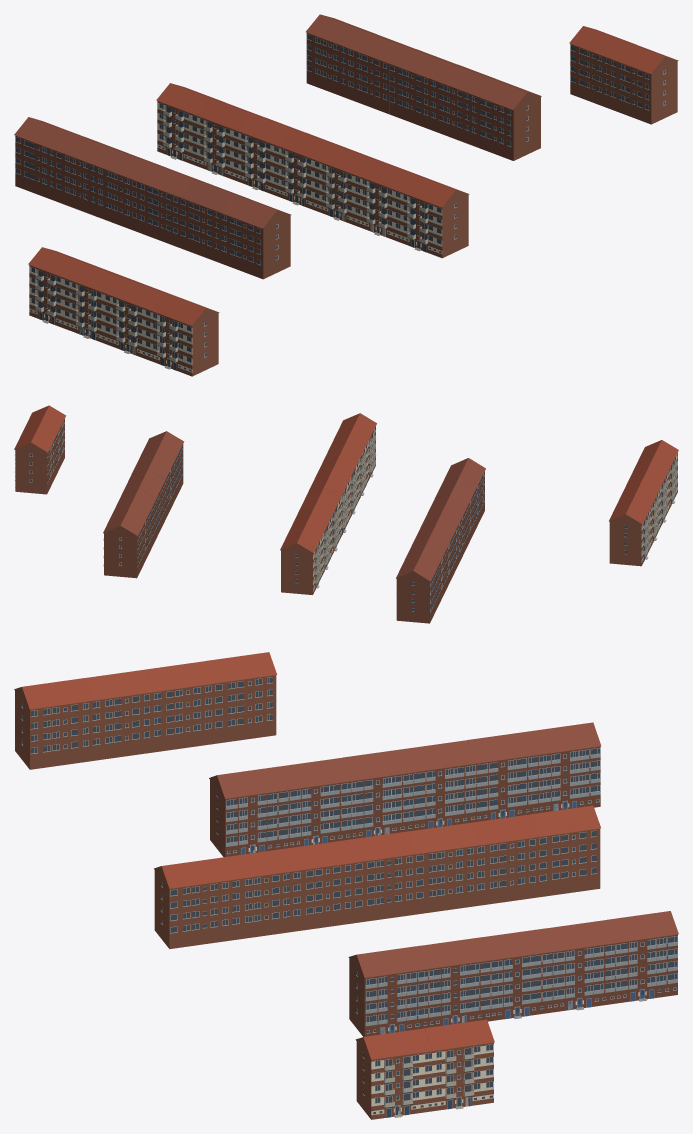
Rendered from sonderbuur-merged.glb.
3 renders of one model, top to bottom at view 1: azimuth 30°, elevation 25°; view 2: azimuth 150°, elevation 25°; view 3: azimuth 270°, elevation 25°, orthographic. The views are drawn at different scales.
Parts seen in each view (by area): view 1: sonderbuur; view 2: sonderbuur; view 3: sonderbuur.
Part boxes in pixels (x1,y1,x2,y2): sonderbuur: [14, 14, 678, 376]; sonderbuur: [14, 405, 678, 623]; sonderbuur: [14, 652, 678, 1119].
Bounding box in the file's own units: 208 × 17.81 × 144.
